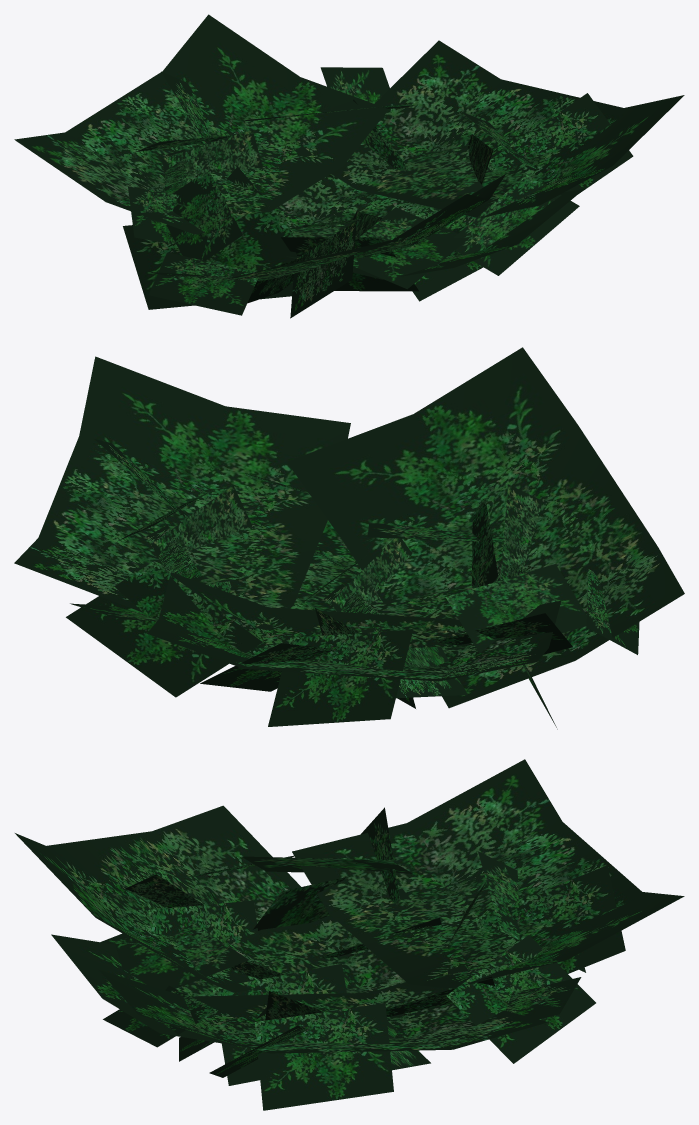
Rendered from jungle_canopy_triple.fbx.
3 views of the same model, one above another, from view 1: azimuth 30°, elevation 25°; view 2: azimuth 150°, elevation 25°; view 3: azimuth 270°, elevation 25° (orthographic). The views are drawn at different scales.
Visible parts, largest first — view 1: jungle_canopy_single_canopy_29, jungle_canopy_single_canopy_23, jungle_canopy_single_canopy_17, jungle_canopy_single_canopy_13, jungle_canopy_single_canopy_16, jungle_canopy_single_canopy_6, jungle_canopy_single_canopy_10, jungle_canopy_single_canopy_12, jungle_canopy_single_canopy_27, jungle_canopy_single_canopy_5, jungle_canopy_single_canopy_11, jungle_canopy_single_canopy_34 (+11 smaller); view 2: jungle_canopy_single_canopy_5, jungle_canopy_single_canopy_23, jungle_canopy_single_canopy_29, jungle_canopy_single_canopy_31, jungle_canopy_single_canopy_15, jungle_canopy_single_canopy_12, jungle_canopy_single_canopy_17, jungle_canopy_single_canopy_28, jungle_canopy_single_canopy_33, jungle_canopy_single_canopy_11, jungle_canopy_single_canopy_22, jungle_canopy_single_canopy_32 (+9 smaller); view 3: jungle_canopy_single_canopy_29, jungle_canopy_single_canopy_5, jungle_canopy_single_canopy_23, jungle_canopy_single_canopy_25, jungle_canopy_single_canopy_17, jungle_canopy_single_canopy_15, jungle_canopy_single_canopy_33, jungle_canopy_single_canopy_10, jungle_canopy_single_canopy_19, jungle_canopy_single_canopy_8, jungle_canopy_single_canopy_13, jungle_canopy_single_canopy_31 (+9 smaller).
Part boxes in pixels (<box>): jungle_canopy_single_canopy_29: <box>14,14,388,234</box>; jungle_canopy_single_canopy_23: <box>294,40,684,217</box>; jungle_canopy_single_canopy_17: <box>274,174,583,279</box>; jungle_canopy_single_canopy_13: <box>123,211,297,309</box>; jungle_canopy_single_canopy_16: <box>454,175,579,275</box>; jungle_canopy_single_canopy_6: <box>148,252,258,315</box>; jungle_canopy_single_canopy_10: <box>353,207,468,289</box>; jungle_canopy_single_canopy_12: <box>166,169,242,260</box>; jungle_canopy_single_canopy_27: <box>488,93,633,193</box>; jungle_canopy_single_canopy_5: <box>149,174,505,280</box>; jungle_canopy_single_canopy_11: <box>290,221,356,318</box>; jungle_canopy_single_canopy_34: <box>161,129,262,174</box>; jungle_canopy_single_canopy_5: <box>287,347,684,708</box>; jungle_canopy_single_canopy_23: <box>14,356,350,629</box>; jungle_canopy_single_canopy_29: <box>147,572,561,681</box>; jungle_canopy_single_canopy_31: <box>268,629,412,726</box>; jungle_canopy_single_canopy_15: <box>66,562,262,697</box>; jungle_canopy_single_canopy_12: <box>445,564,586,653</box>; jungle_canopy_single_canopy_17: <box>290,520,472,650</box>; jungle_canopy_single_canopy_28: <box>151,485,251,556</box>; jungle_canopy_single_canopy_33: <box>200,643,335,691</box>; jungle_canopy_single_canopy_11: <box>500,484,542,580</box>; jungle_canopy_single_canopy_22: <box>331,534,412,611</box>; jungle_canopy_single_canopy_32: <box>396,646,467,698</box>; jungle_canopy_single_canopy_29: <box>292,759,684,988</box>; jungle_canopy_single_canopy_5: <box>15,805,300,992</box>; jungle_canopy_single_canopy_23: <box>99,965,548,1053</box>; jungle_canopy_single_canopy_25: <box>254,1003,393,1110</box>; jungle_canopy_single_canopy_17: <box>51,888,410,1046</box>; jungle_canopy_single_canopy_15: <box>446,935,595,1063</box>; jungle_canopy_single_canopy_33: <box>475,865,625,973</box>; jungle_canopy_single_canopy_10: <box>100,923,248,990</box>; jungle_canopy_single_canopy_19: <box>212,963,346,1085</box>; jungle_canopy_single_canopy_8: <box>148,900,258,944</box>; jungle_canopy_single_canopy_13: <box>253,876,350,930</box>; jungle_canopy_single_canopy_31: <box>478,851,585,972</box>.
Bounding box in the file's own units: 20863 × 6808 × 19968.
Materials: 1 (1 with a texture image).
